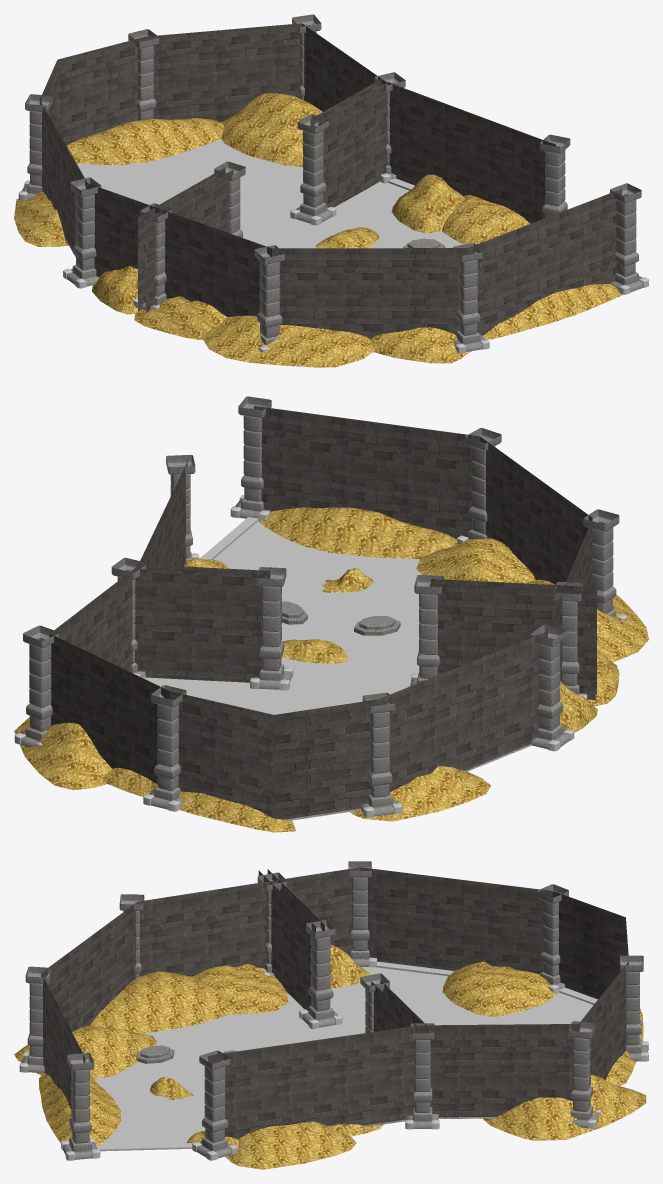
The model's file is TreasureCave.fbx.
3 views of the same model, one above another, from view 1: azimuth 30°, elevation 25°; view 2: azimuth 150°, elevation 25°; view 3: azimuth 270°, elevation 25° (orthographic). The views are drawn at different scales.
Parts seen in each view (by area): view 1: TreasureCave, TreasurePiles; view 2: TreasureCave, TreasurePiles; view 3: TreasureCave, TreasurePiles.
Part boxes in pixels (<box>): TreasureCave: <box>18,14,648,353</box>; TreasurePiles: <box>14,93,622,367</box>; TreasureCave: <box>14,396,627,820</box>; TreasurePiles: <box>14,507,648,832</box>; TreasureCave: <box>19,861,648,1160</box>; TreasurePiles: <box>14,944,646,1169</box>.
Size of the model in its own units: 131 by 28.6 by 165.
